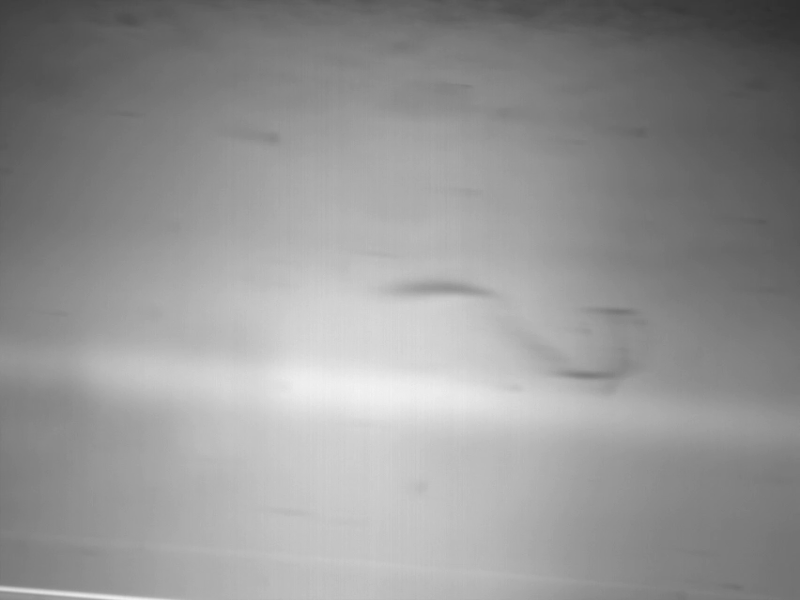fiber: (379, 269, 660, 396)
